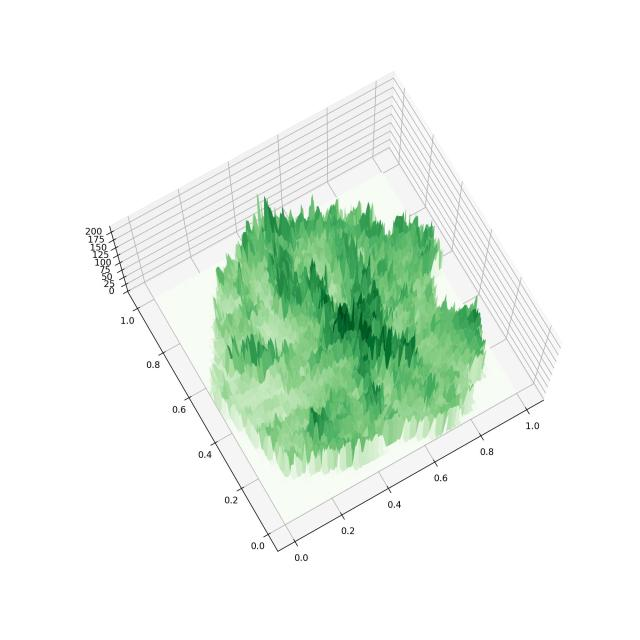spruce: (41, 19, 572, 621)
